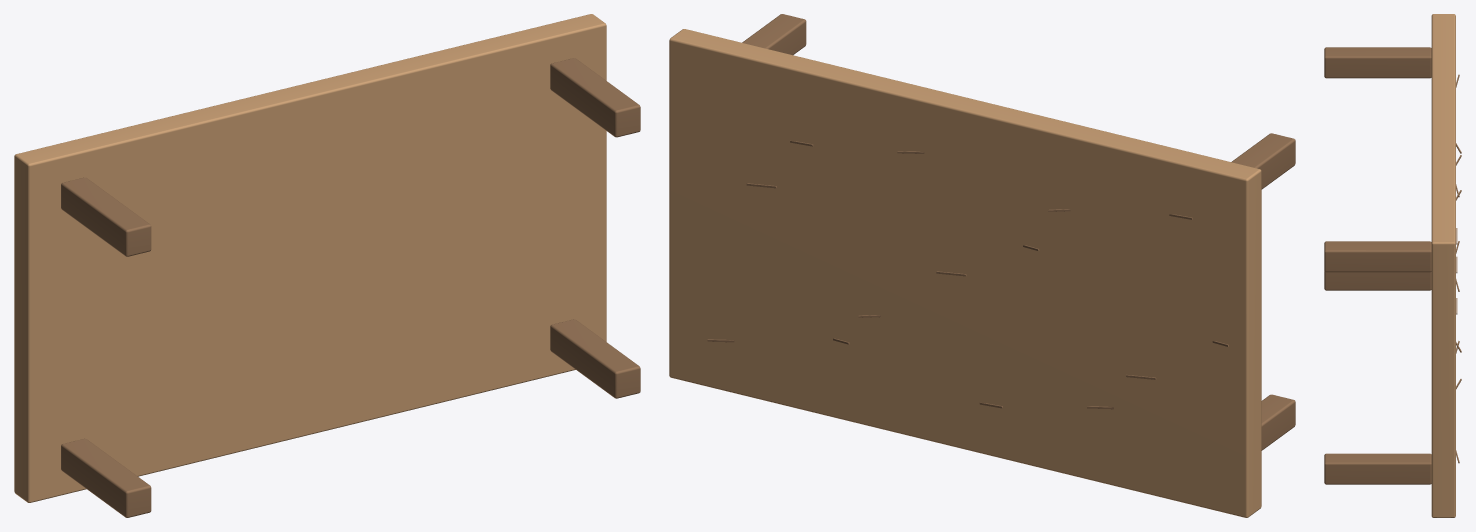
The model's file is workbench.glb.
The picture shows the model from 3 angles, left to right: view 1: azimuth 30°, elevation 25°; view 2: azimuth 150°, elevation 25°; view 3: azimuth 270°, elevation 25°; orthographic projection. The views are drawn at different scales.
Visible parts, largest first — view 1: RW3_Workbench_Top, RW3_Workbench_Leg.002, RW3_Workbench_Leg.001, RW3_Workbench_Leg.003, RW3_Workbench_Leg; view 2: RW3_Workbench_Top, RW3_Workbench_Leg.002, RW3_Workbench_Leg.003, RW3_Workbench_Leg; view 3: RW3_Workbench_Top, RW3_Workbench_Leg.001, RW3_Workbench_Leg.002, RW3_Workbench_Leg.003, RW3_Workbench_Leg.
Boxes of the visible parts, bbox=[...] form: RW3_Workbench_Top: bbox=[14, 14, 606, 502]; RW3_Workbench_Leg.002: bbox=[61, 177, 151, 256]; RW3_Workbench_Leg.001: bbox=[550, 319, 640, 398]; RW3_Workbench_Leg.003: bbox=[550, 58, 640, 137]; RW3_Workbench_Leg: bbox=[61, 438, 151, 517]; RW3_Workbench_Top: bbox=[669, 29, 1261, 517]; RW3_Workbench_Leg.002: bbox=[1231, 133, 1295, 189]; RW3_Workbench_Leg.003: bbox=[742, 14, 806, 54]; RW3_Workbench_Leg: bbox=[1261, 394, 1295, 450]; RW3_Workbench_Top: bbox=[1431, 14, 1455, 517]; RW3_Workbench_Leg.001: bbox=[1324, 453, 1431, 484]; RW3_Workbench_Leg.002: bbox=[1324, 47, 1431, 78]; RW3_Workbench_Leg.003: bbox=[1324, 241, 1431, 272]; RW3_Workbench_Leg: bbox=[1324, 271, 1431, 290].
Size of the model in its own units: 5.8 by 3.25 by 1.47.
